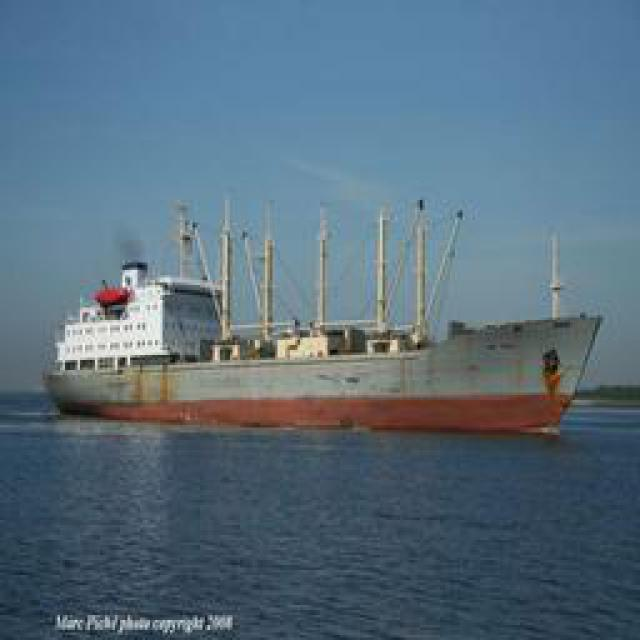Ship: (51, 204, 591, 427)
